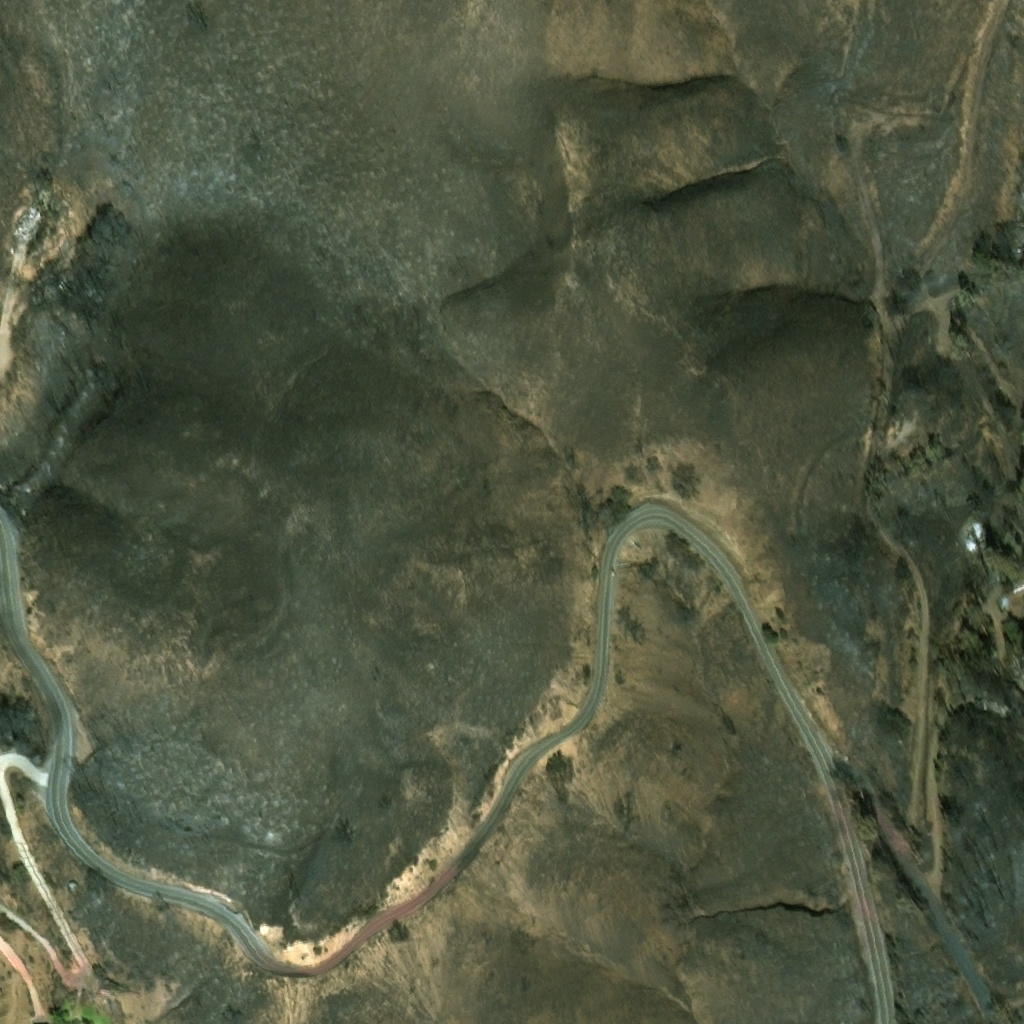3 destroyed: (12, 200, 42, 233), (957, 515, 979, 543), (985, 688, 1003, 704), (996, 589, 1005, 599), (1008, 639, 1016, 648), (976, 690, 981, 696)
4 un-classified: (98, 977, 119, 993), (65, 879, 77, 888)
